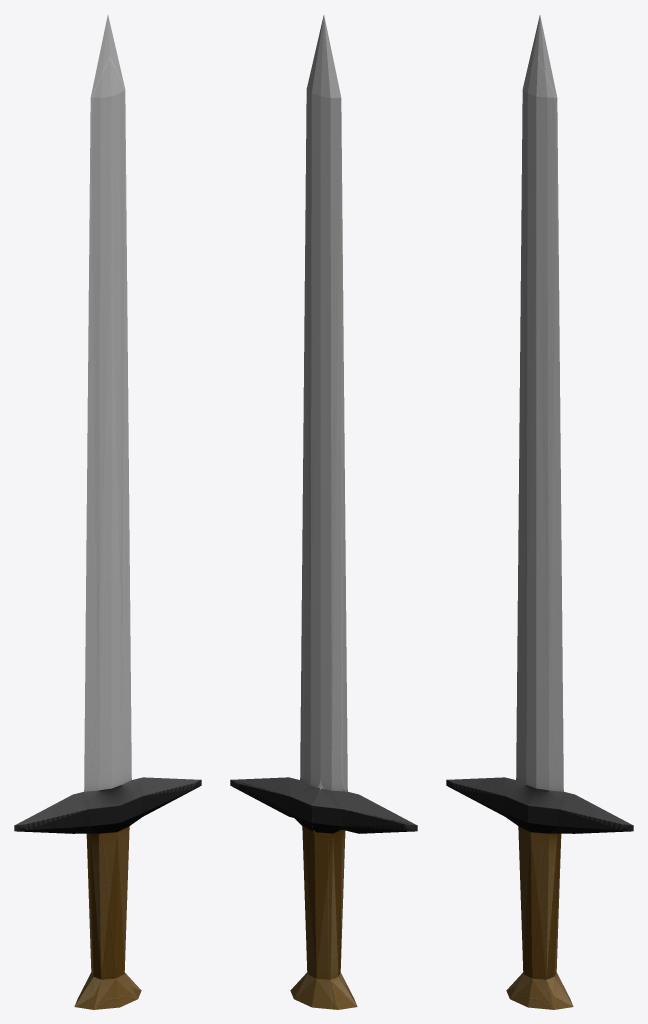
The model's file is SkelSwordsman_Weapon.fbx.
3 renders of one model, left to right at view 1: azimuth 30°, elevation 25°; view 2: azimuth 150°, elevation 25°; view 3: azimuth 330°, elevation 25°, orthographic.
Parts seen in each view (by area): view 1: polySurface1; view 2: polySurface1; view 3: polySurface1.
Boxes of the visible parts, x1,y1,x2,y2 form: polySurface1: [14, 15, 201, 1009]; polySurface1: [230, 15, 417, 1009]; polySurface1: [446, 15, 633, 1009].
Size of the model in its own units: 0.3625 by 1.82 by 0.0808.
